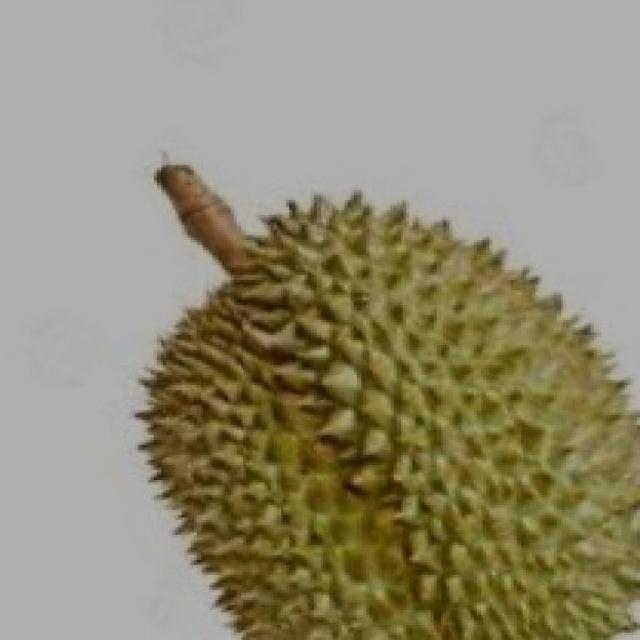fruit: (317, 188, 637, 638), (98, 247, 449, 640)
